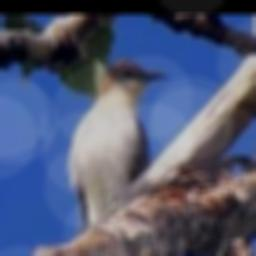Cuckoo: (67, 60, 171, 227)
